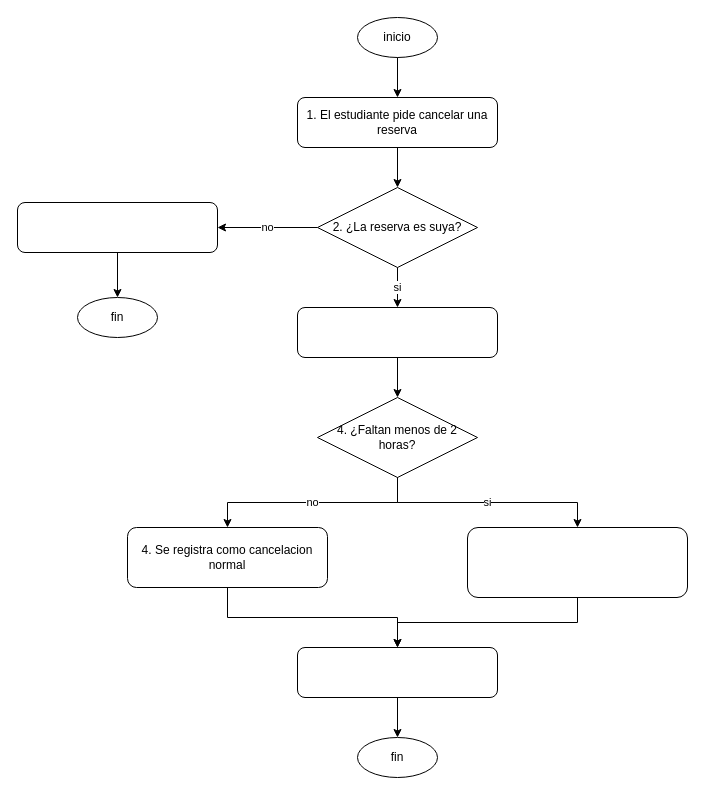
The diagram is 705 pixels wide and 795 high, and some of its shapes have lost their labels. The shapes that lost their labels are listed below. From the top down, each one's box as (x1, y1, x2, y2) in pixels, then its label:
(16, 202, 218, 252): 2a. Se rechaza: la reserva no le pertenece
(296, 306, 498, 358): 3. El sistema calcula cuanto falta para el inicio
(466, 526, 688, 598): 4a. El sistema la registra como no-show (el usuario no decide el resultado)
(296, 646, 498, 698): 5. El sistema avisa el resultado
